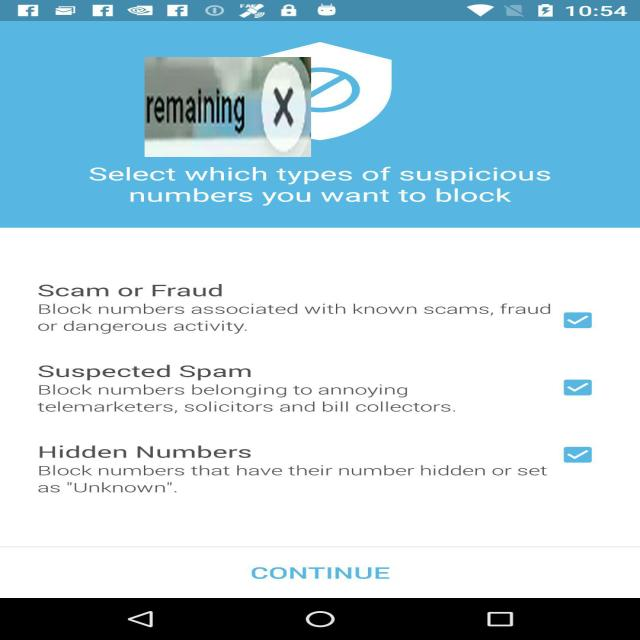misdirection: (145, 57, 311, 157)
